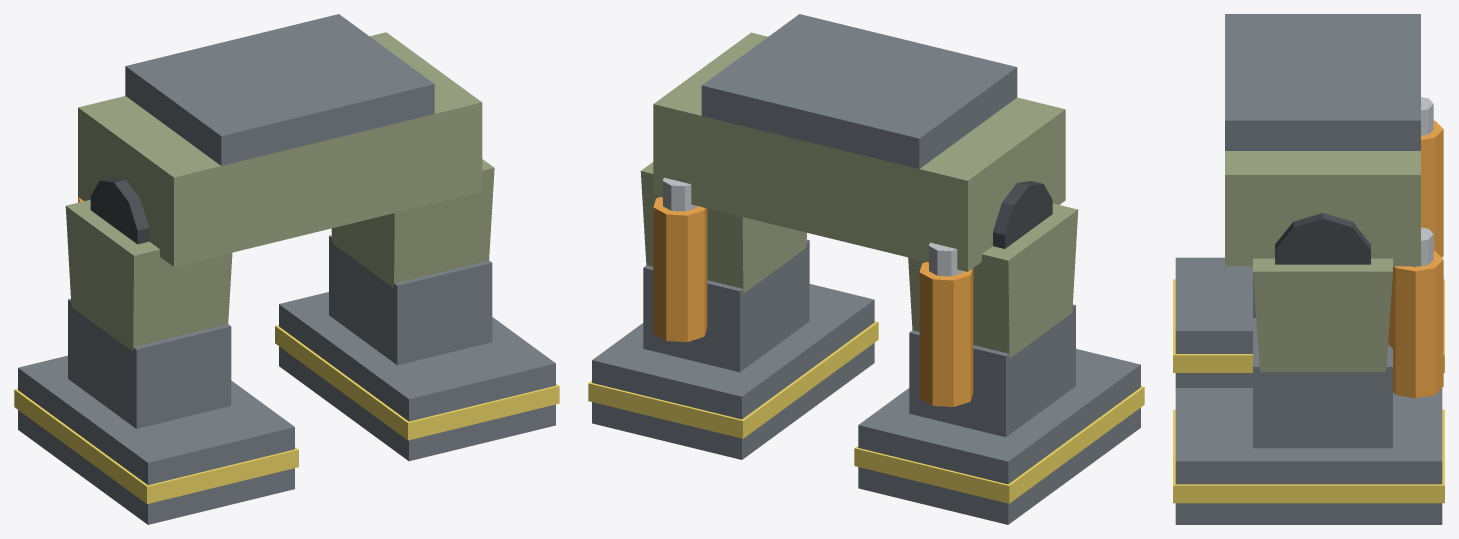
File: mech-hangar-and-battle-frames-loader-legs-e6d13b65__26828.glb
3 views of the same model, side by side, from view 1: azimuth 30°, elevation 25°; view 2: azimuth 150°, elevation 25°; view 3: azimuth 270°, elevation 25° (orthographic). The views are drawn at different scales.
Parts seen in each view (by area): view 1: loader-legs; view 2: loader-legs; view 3: loader-legs.
Part boxes in pixels (x1,y1,x2,y2): loader-legs: [14, 14, 559, 524]; loader-legs: [588, 14, 1144, 524]; loader-legs: [1173, 14, 1444, 524].
Bounding box in the file's own units: 1.74 × 1.4 × 0.97.
